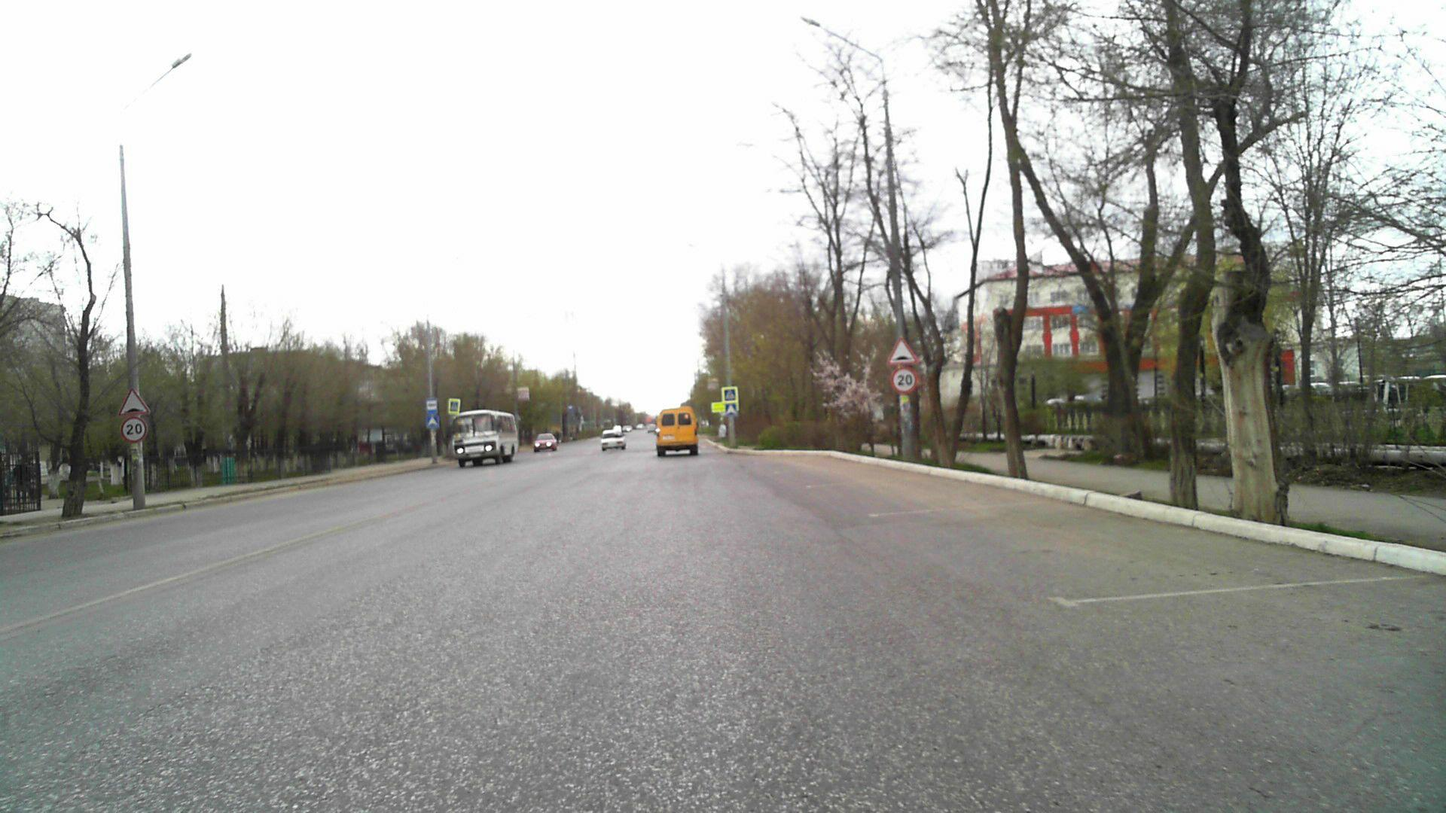road_sign: (886, 332, 922, 366), (118, 385, 154, 417), (119, 416, 148, 444), (891, 365, 918, 393), (721, 385, 741, 404)
